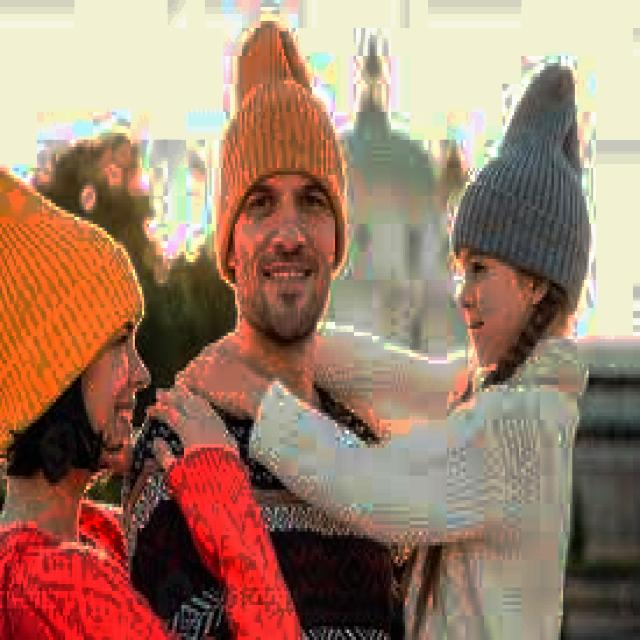TOPI: (0, 161, 147, 448), (207, 14, 347, 290), (449, 56, 596, 311)
